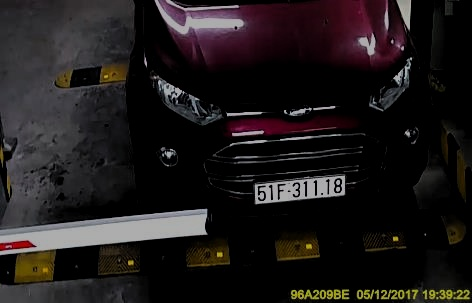plate: (252, 175, 347, 206)
